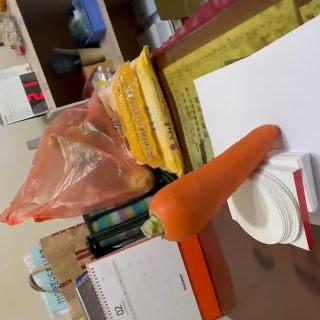carrot: (141, 122, 281, 242)
